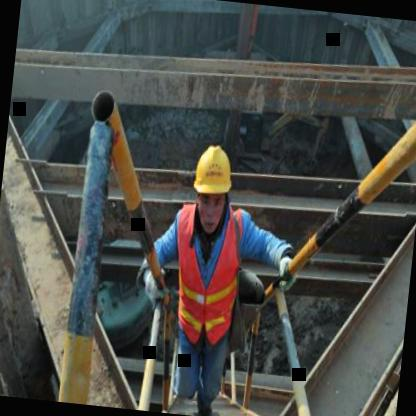helmet: (183, 134, 238, 233)
